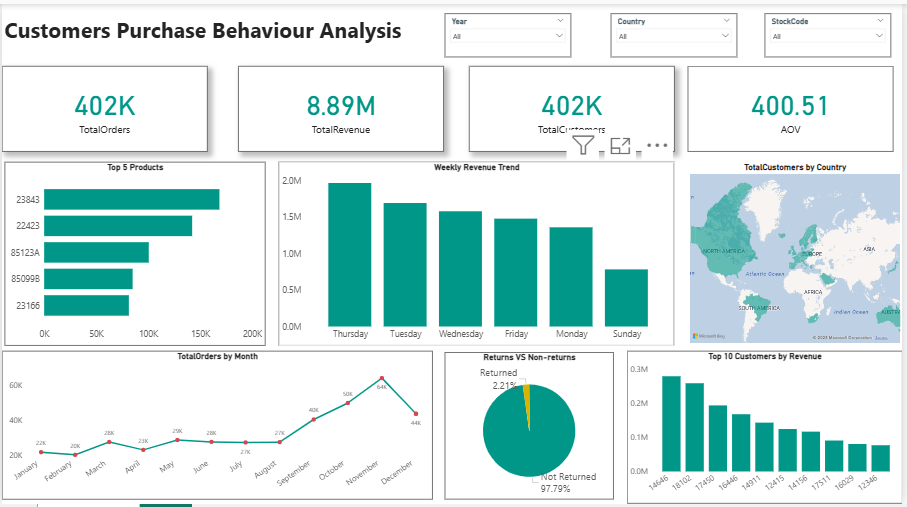

The dashboard page shown, as its layout file describes it:
{"tool":"powerbi","page":{"name":"Page 1","canvas":[1800,1000],"ordinal":0},"visuals":[{"type":"card","fields":{"Values":["clean_data.TotalOrders"]},"box":[0,124.6,411.3,171.4],"z":0},{"type":"card","fields":{"Values":["clean_data.TotalRevenue"]},"box":[473.7,124.6,411.3,171.4],"z":1000},{"type":"card","fields":{"Values":["clean_data.TotalCustomers"]},"box":[934.9,124.6,411.3,171.4],"z":2000},{"type":"card","fields":{"Values":["clean_data.AOV"]},"box":[1371.1,124.6,411.3,171.4],"z":3000},{"type":"columnChart","title":"Top 10 Customers by Revenue","fields":{"Y":["clean_data.TotalRevenue"],"Category":["clean_data.CustomerID"]},"box":[1250.4,694.1,550.9,305.2],"z":4000},{"type":"lineChart","fields":{"Category":["clean_data.InvoiceDate.Variation.Date Hierarchy.Month"],"Y":["clean_data.TotalOrders"]},"box":[0,694.1,861.5,297.1],"z":5000},{"type":"clusteredBarChart","title":"Top 5 Products","fields":{"Category":["clean_data.StockCode"],"Y":["clean_data.TotalRevenue"]},"box":[5.4,316,521.2,367.3],"z":6000},{"type":"pieChart","title":" Returns VS Non-returns","fields":{"Category":["clean_data.Return Status"],"Y":["CountNonNull(clean_data.Return Status)"]},"box":[885.8,696.8,337.6,294.4],"z":7000},{"type":"columnChart","title":"Weekly Revenue Trend","fields":{"Category":["clean_data.DayOfWeek"],"Y":["clean_data.TotalRevenue"]},"box":[553.6,316,791.3,367.3],"z":8000},{"type":"textbox","box":[0,0,823.7,94.5],"z":9000},{"type":"filledMap","fields":{"Category":["clean_data.Country"]},"box":[1371.1,314.7,430,367.7],"z":10000},{"type":"slicer","fields":{"Values":["clean_data.InvoiceDate.Variation.Date Hierarchy.Year"]},"box":[885,18.7,252.4,87.3],"z":11000},{"type":"slicer","fields":{"Values":["clean_data.Country"]},"box":[1218.4,18.7,252.4,87.3],"z":12000},{"type":"slicer","fields":{"Values":["clean_data.StockCode"]},"box":[1526.9,18.7,252.4,87.3],"z":13000}]}

Visuals, with their boxes in screenshot pixels (x1, y1, x2, y2), scaled from the page's 1800x1000 canvas onto the 907x507 screenshot:
card - clean_data.TotalOrders: 0:63:207:150
card - clean_data.TotalRevenue: 239:63:446:150
card - clean_data.TotalCustomers: 471:63:678:150
card - clean_data.AOV: 691:63:898:150
"Top 10 Customers by Revenue" columnChart: 630:352:906:506
lineChart - clean_data.InvoiceDate.Variation.Date Hierarchy.Month x clean_data.TotalOrders: 0:352:434:503
"Top 5 Products" clusteredBarChart: 3:160:265:346
" Returns VS Non-returns" pieChart: 446:353:616:503
"Weekly Revenue Trend" columnChart: 279:160:678:346
textbox: 0:0:415:48
filledMap - clean_data.Country: 691:160:906:346
slicer - clean_data.InvoiceDate.Variation.Date Hierarchy.Year: 446:9:573:54
slicer - clean_data.Country: 614:9:741:54
slicer - clean_data.StockCode: 769:9:897:54
